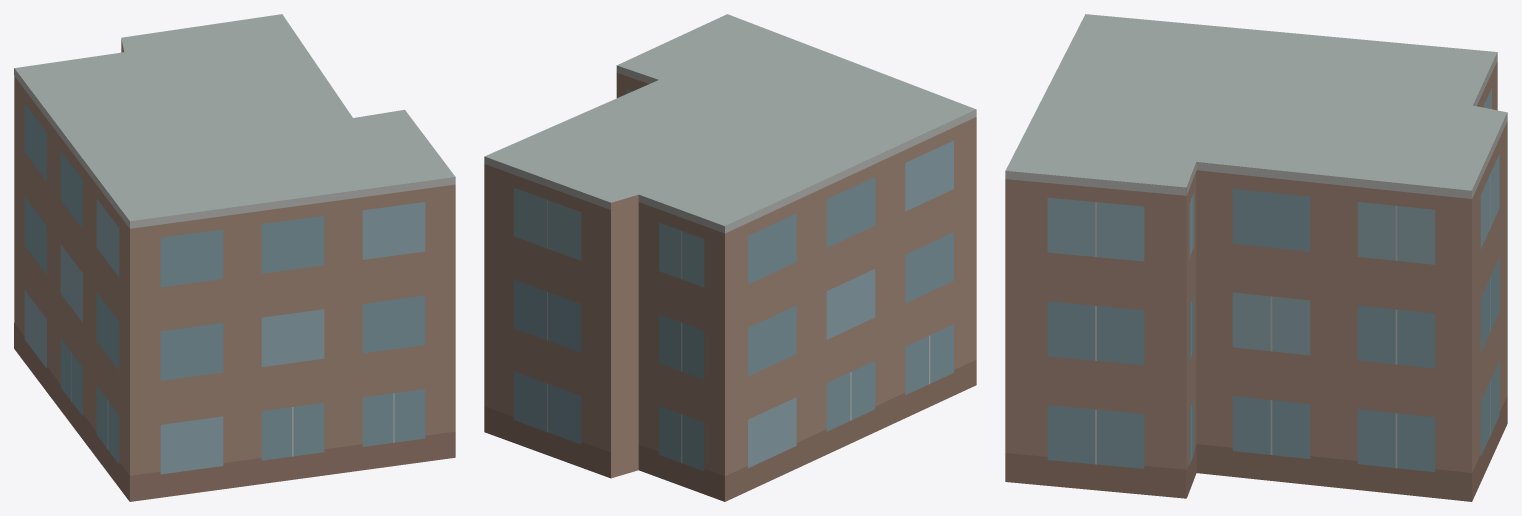
The model's file is survey-upis-32482843.glb.
The picture shows the model from 3 angles, left to right: view 1: azimuth 30°, elevation 25°; view 2: azimuth 150°, elevation 25°; view 3: azimuth 270°, elevation 25°; orthographic projection. The views are drawn at different scales.
Visible parts, largest first — view 1: survey-upis-32482843.tmp; view 2: survey-upis-32482843.tmp; view 3: survey-upis-32482843.tmp.
Part boxes in pixels (x1=…): survey-upis-32482843.tmp: x1=14, y1=14, x2=455, y2=501; survey-upis-32482843.tmp: x1=484, y1=14, x2=976, y2=501; survey-upis-32482843.tmp: x1=1005, y1=14, x2=1507, y2=501.
Bounding box in the file's own units: 11.16 × 9.15 × 13.4.
